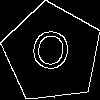O: (27, 28, 73, 81)
